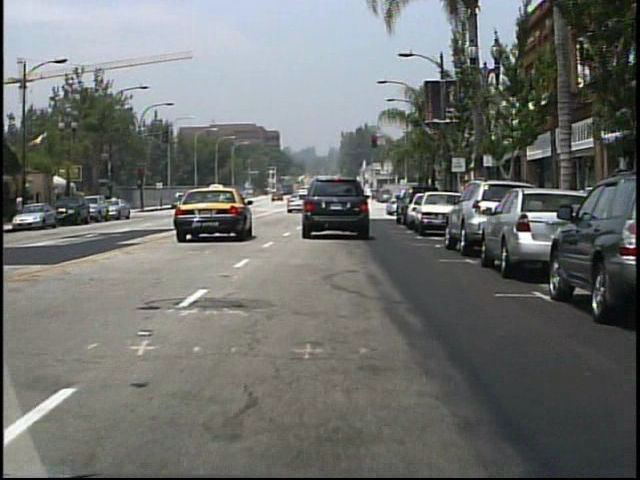person: (15, 192, 27, 224), (333, 190, 347, 213), (228, 189, 241, 212)
